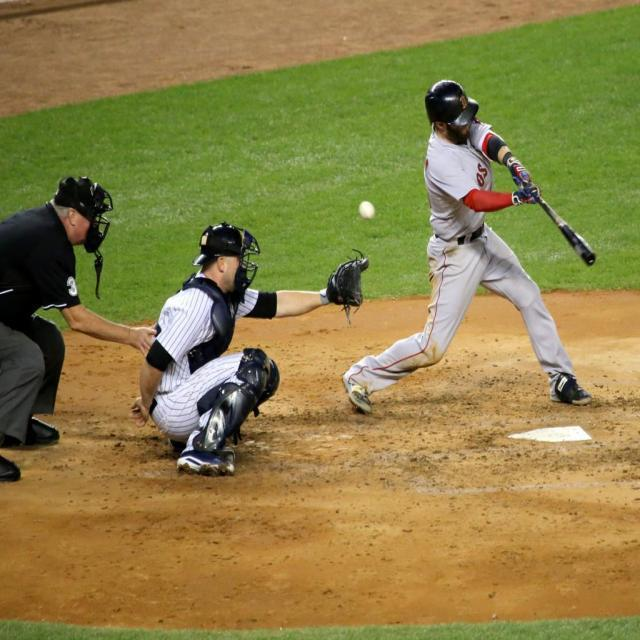baseball bat: (536, 196, 596, 266)
sports ball: (358, 200, 376, 220)
